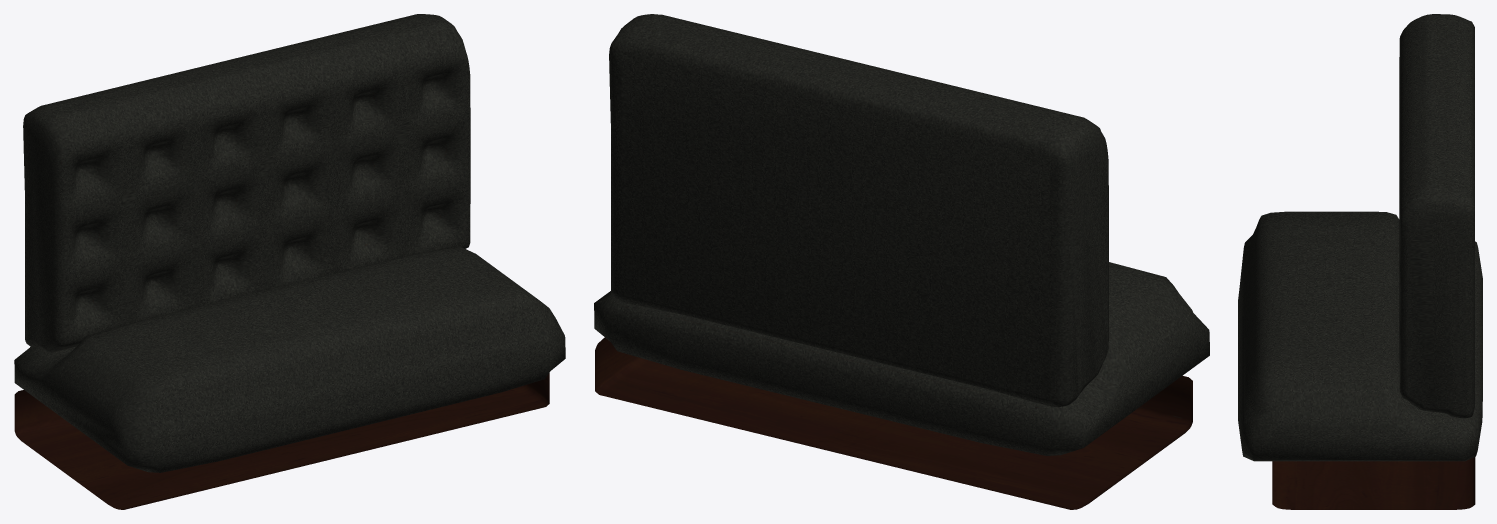
File: back_seats.fbx
3 renders of one model, left to right at view 1: azimuth 30°, elevation 25°; view 2: azimuth 150°, elevation 25°; view 3: azimuth 270°, elevation 25°, orthographic. The views are drawn at different scales.
Parts seen in each view (by area): view 1: basebutton.002_Plane.002; view 2: basebutton.002_Plane.002; view 3: basebutton.002_Plane.002.
Part boxes in pixels (x1=…): basebutton.002_Plane.002: x1=14, y1=14, x2=565, y2=509; basebutton.002_Plane.002: x1=594, y1=14, x2=1209, y2=509; basebutton.002_Plane.002: x1=1238, y1=14, x2=1482, y2=509.
Bounding box in the file's own units: 1204 × 872 × 624.
